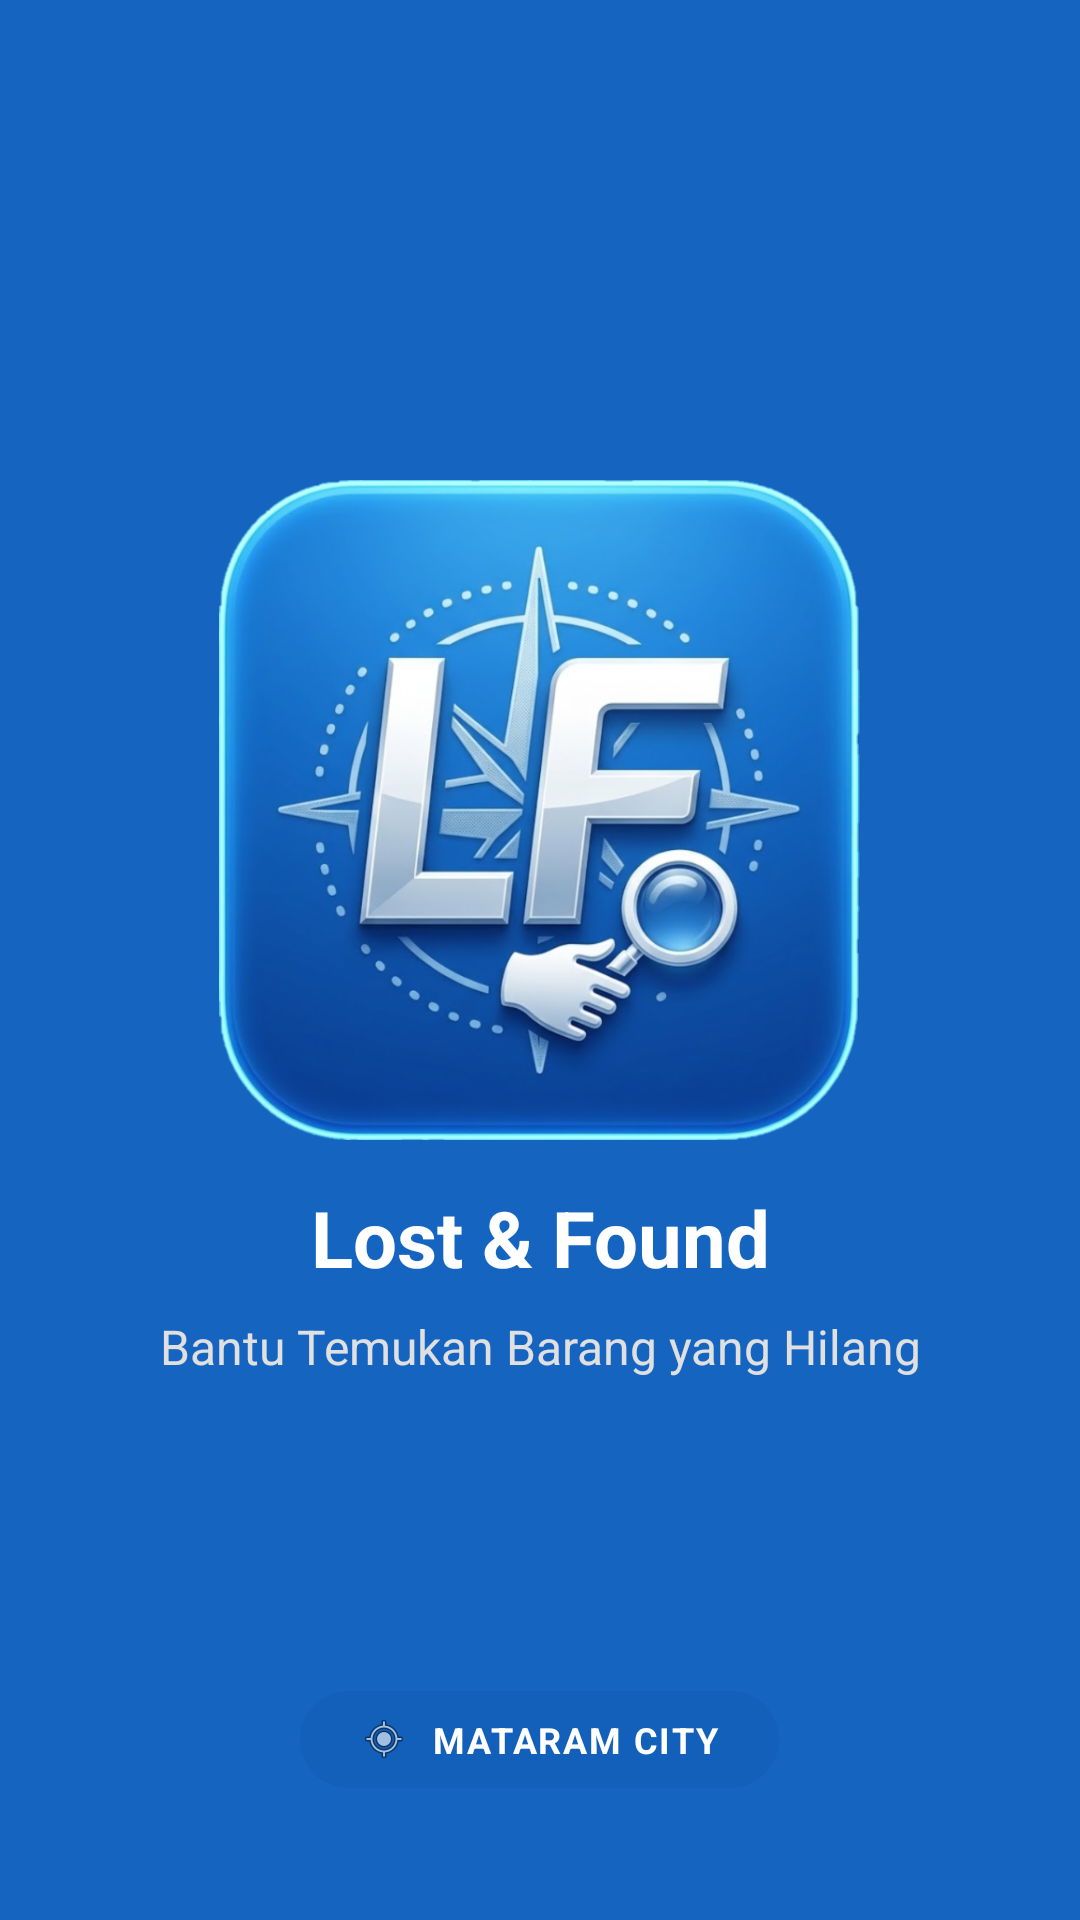

Where to tap for icons on this 1080*1920 app screen, as (x,y):
mylocation: (384,1739)
